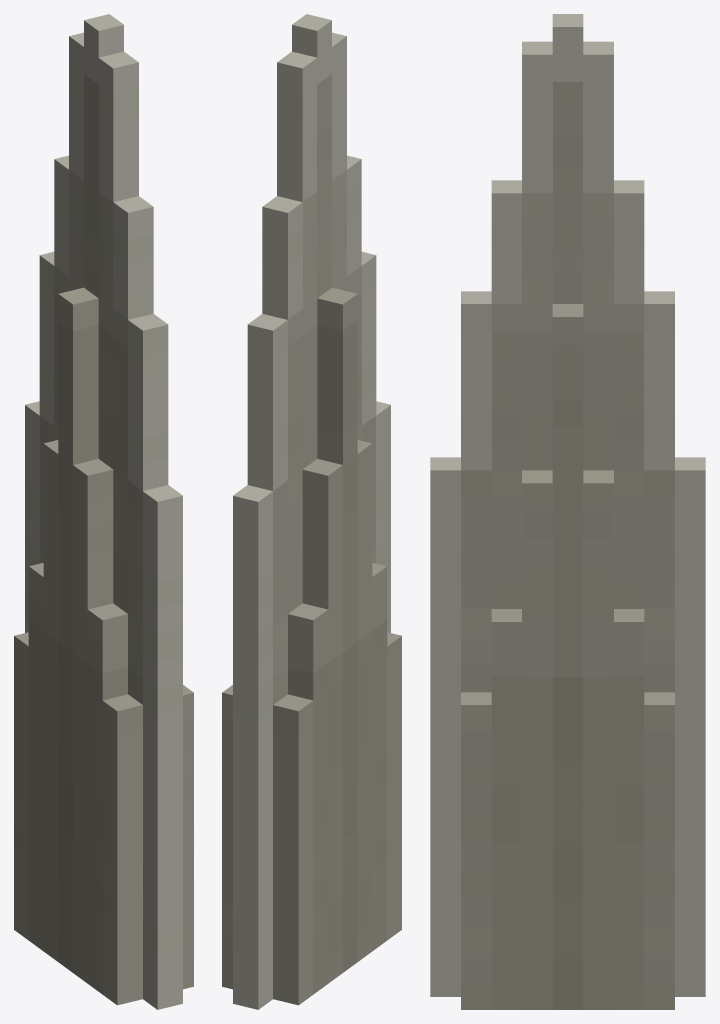
Rendered from E_Knife_Blade01_L.fbx.
The picture shows the model from 3 angles, left to right: view 1: azimuth 30°, elevation 25°; view 2: azimuth 150°, elevation 25°; view 3: azimuth 270°, elevation 25°; orthographic projection. The views are drawn at different scales.
Visible parts, largest first — view 1: E_Knife_Blade01_L; view 2: E_Knife_Blade01_L; view 3: E_Knife_Blade01_L.
Part boxes in pixels (x1,y1,x2,y2): E_Knife_Blade01_L: [14, 14, 193, 1009]; E_Knife_Blade01_L: [222, 14, 401, 1009]; E_Knife_Blade01_L: [430, 14, 705, 1009].
Bounding box in the file's own units: 3 × 35 × 9.
Materials: 1 (1 with a texture image).
